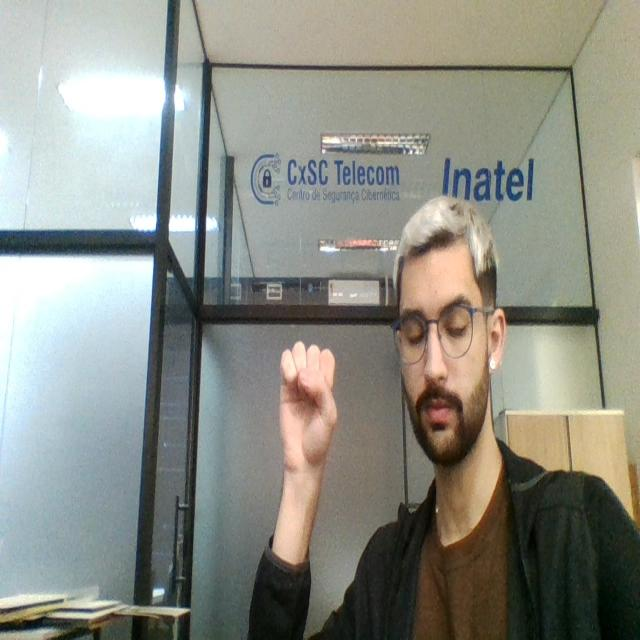S: (275, 336, 341, 475)
